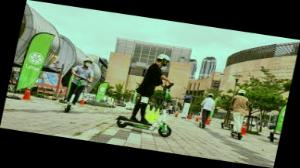helmet: (112, 49, 189, 140), (59, 55, 99, 116), (221, 87, 256, 141), (194, 90, 218, 131)
